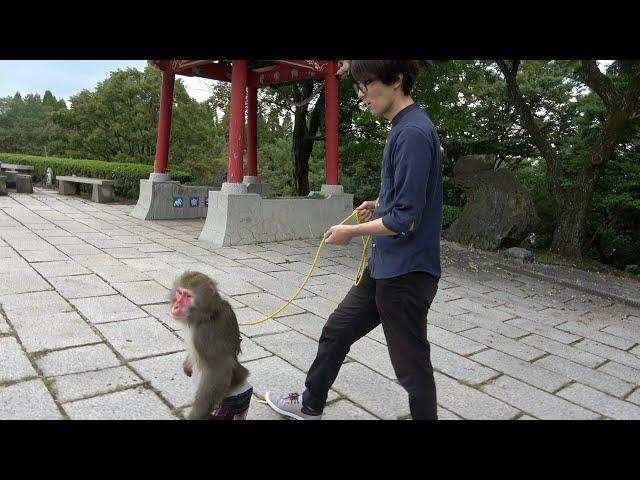Macaca fuscata: (170, 271, 264, 421)
human: (272, 59, 459, 421)
